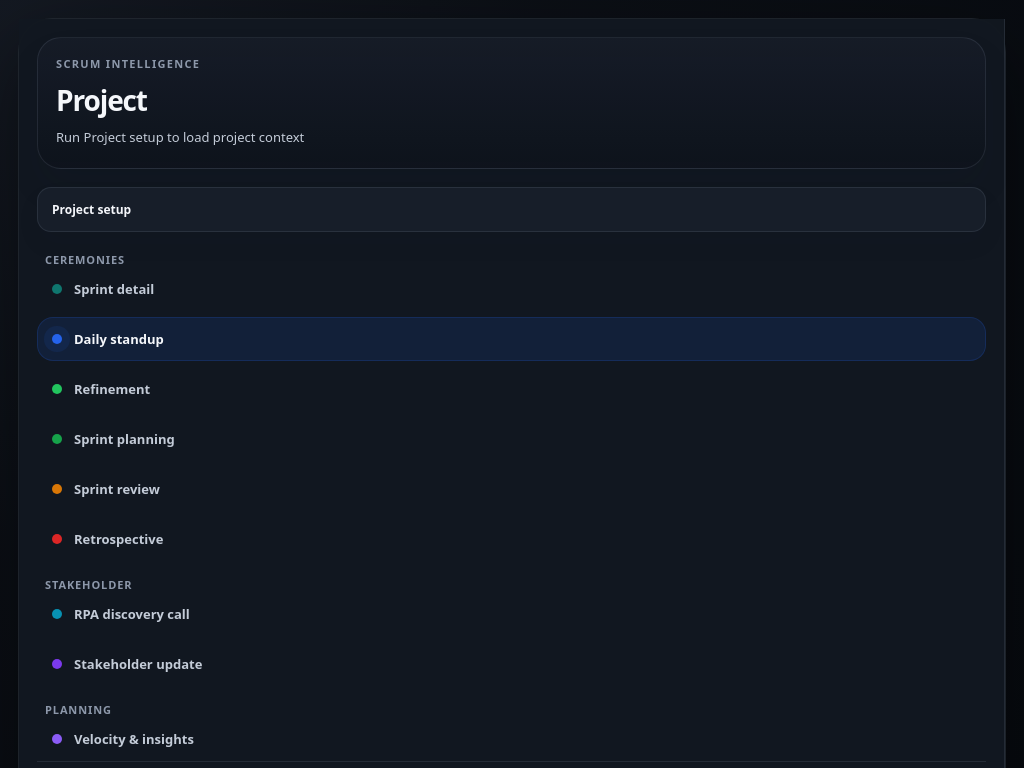
it: refinement dashboard surfaces upcoming-sprint context, detail, and notes
Click the button "Refinement".
click(112, 389)  # box [37, 367, 986, 411]
(page scrolled)
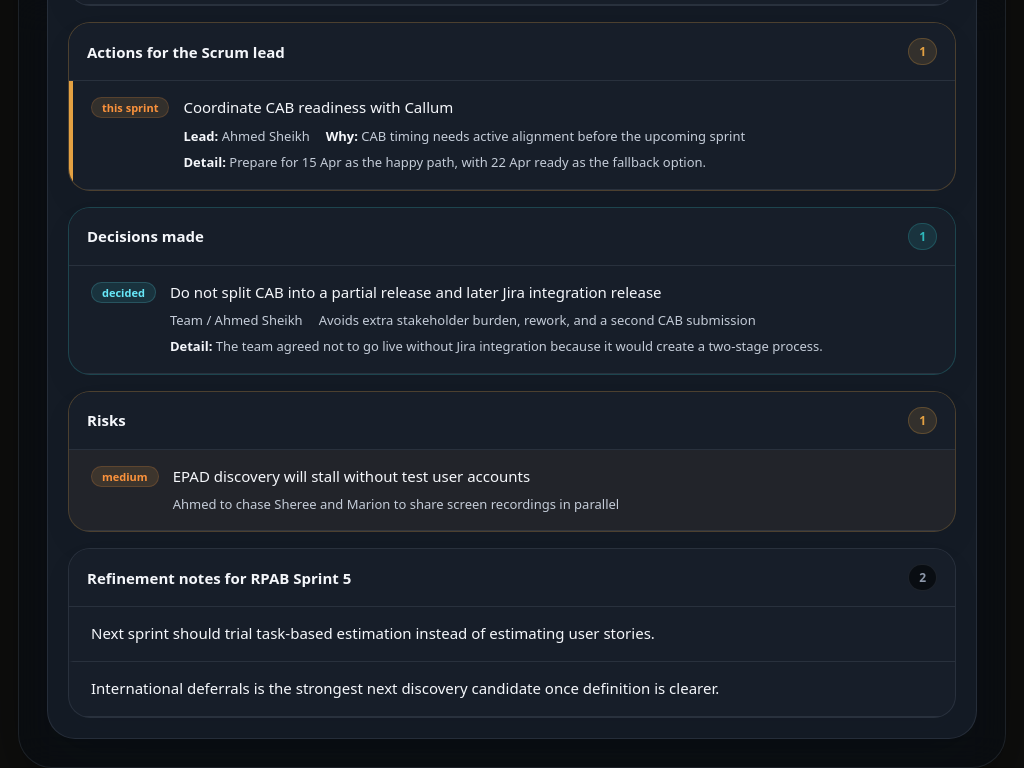
Check: the text "Coordinate CAB readiness with Callum" is shown, box [184, 98, 453, 118]
Check: the text "Prepare for 15 Apr as the happy path, with 22 Apr ready as the fallback option." is shown, box [229, 153, 706, 171]
Check: the text "Do not split CAB into a partial release and later Jira integration release" is shown, box [170, 282, 662, 302]
